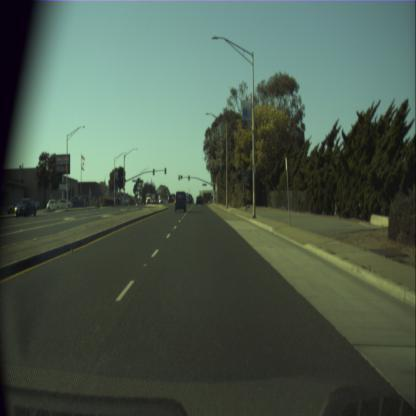Red: (178, 174, 180, 180)
off: (188, 175, 190, 181)
